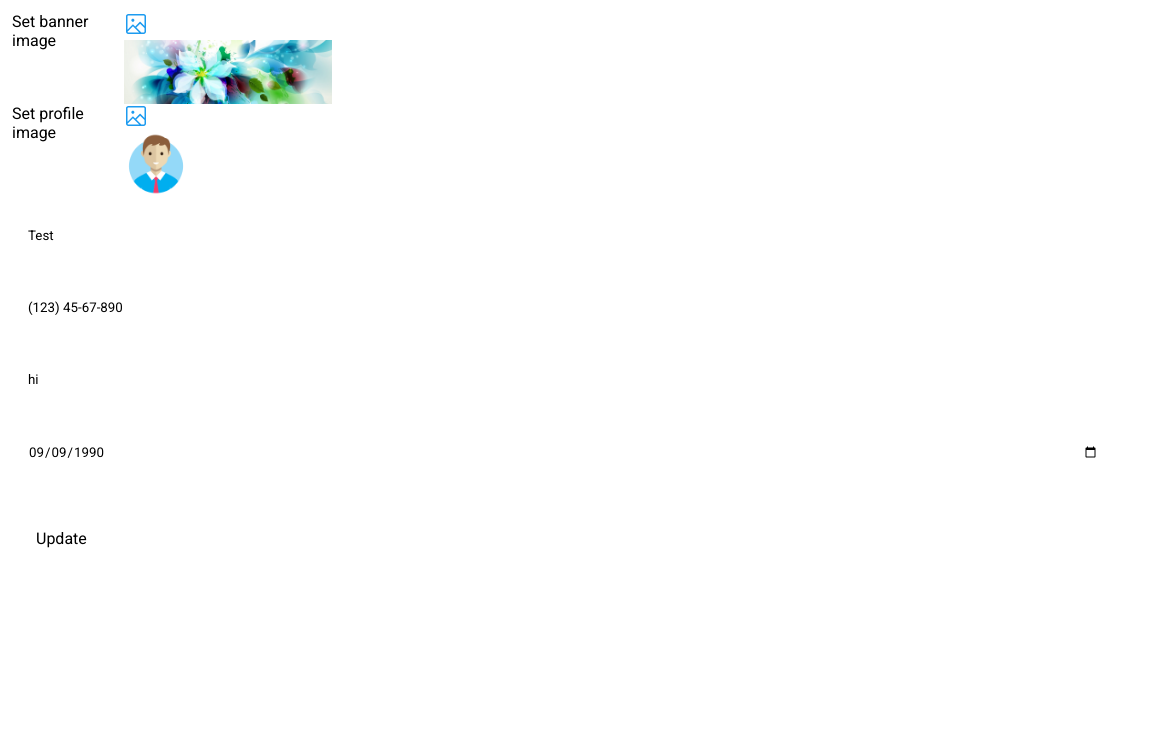
Scenario: EditProfileForm › shows validation errors when fields are empty
This screenshot has width=1164, height=732.
Clear the 1st field with placeholder "Name" at [564, 236], box top-left (12, 212), bottom-right (1115, 259)
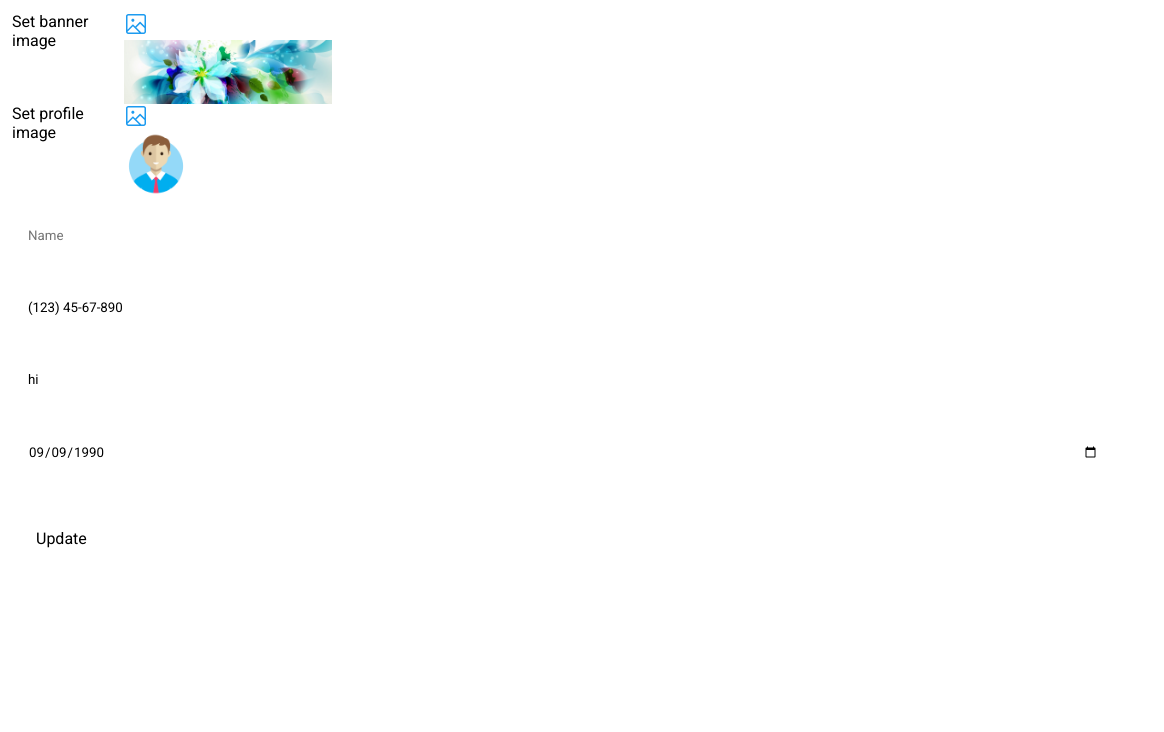
Clear the 1st field with placeholder "Phone" at [564, 308], box top-left (12, 284), bottom-right (1115, 331)
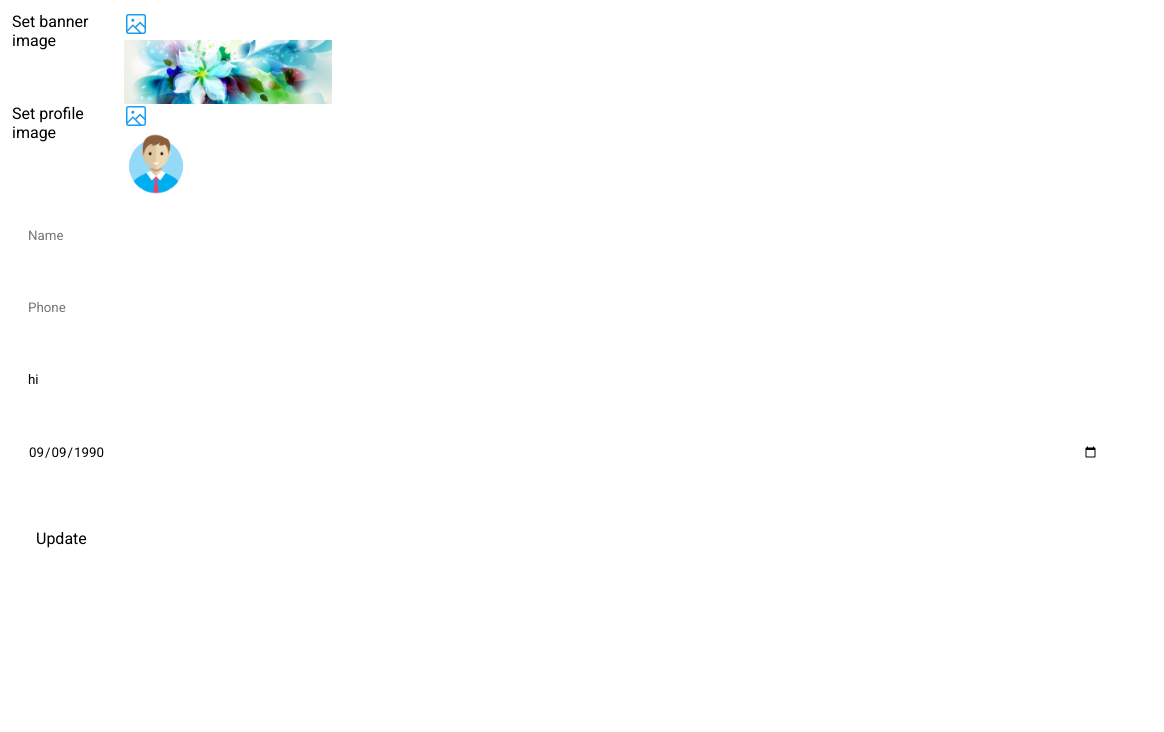
Click the button "Update" at [61, 538], box top-left (12, 516), bottom-right (111, 561)
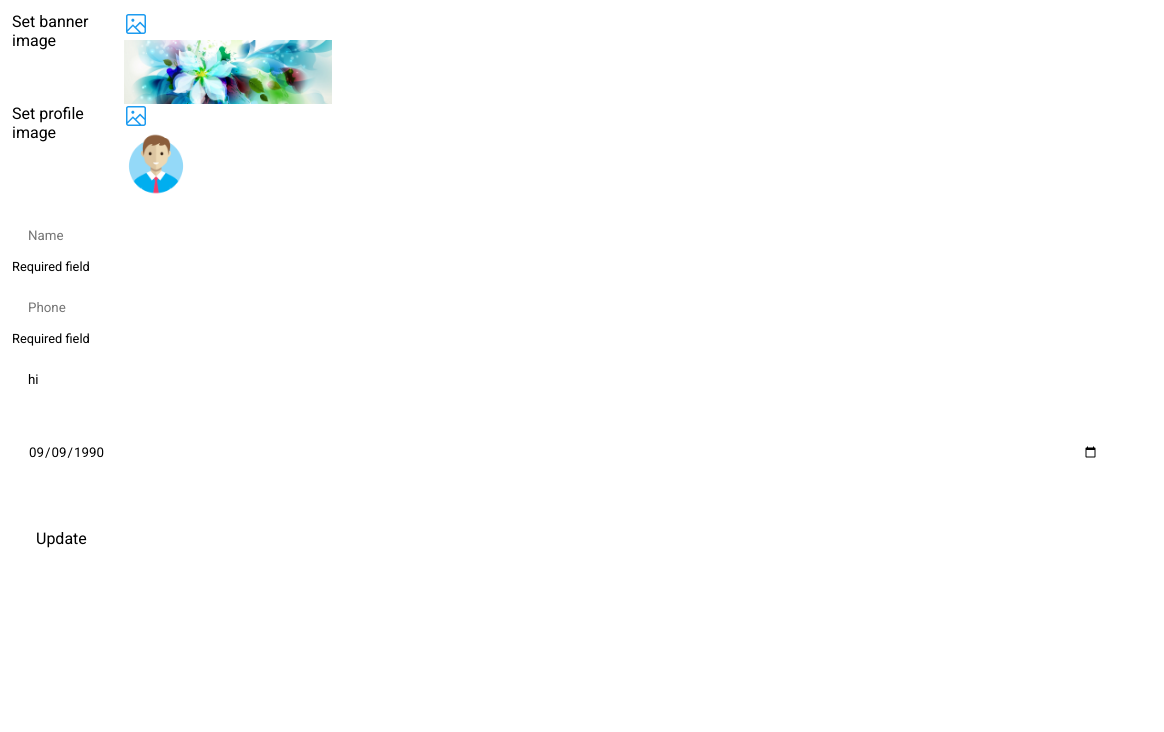
Check: the 1st text "Required field" is shown, box top-left (12, 259), bottom-right (90, 274)
